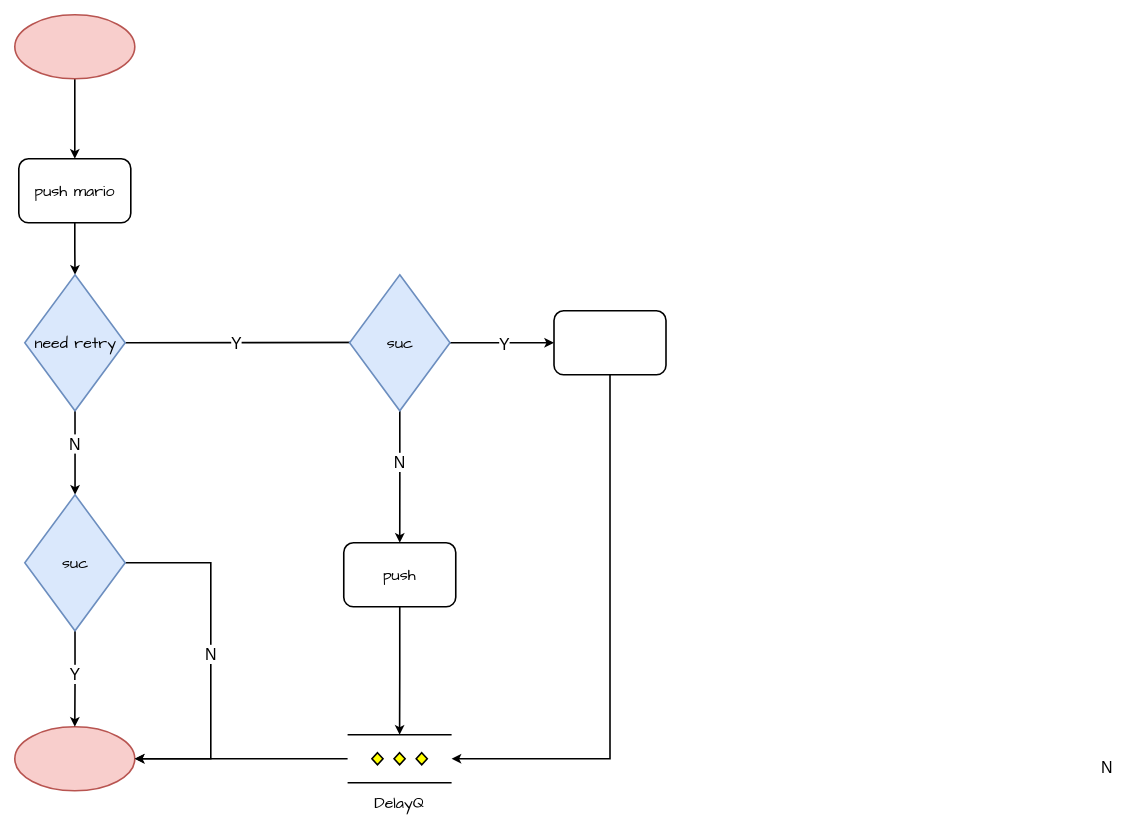
Some shapes in this 1126 by 828 pixel diagram are drawn without their labels. Here are the shapes that lost their labels. From the top down, the centre of each, then its label:
At [74,46]: "start".
At [609,342]: "remove".
At [74,758]: "end".
